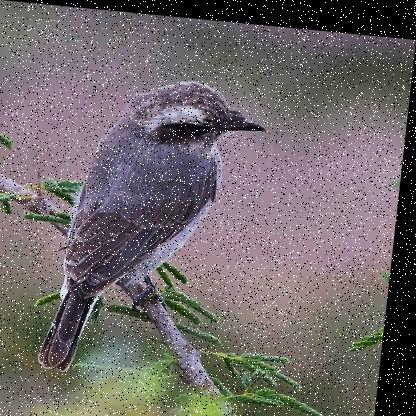Burung: (45, 67, 275, 382)
